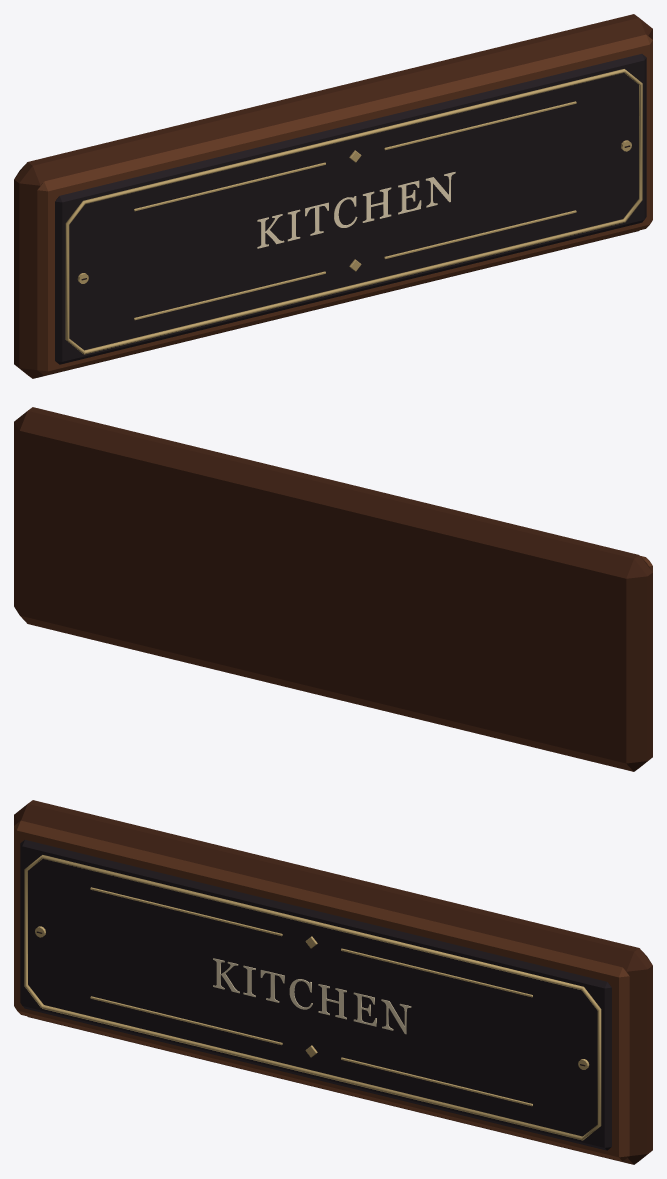
File: KitchenRoomSign.glb
3 renders of one model, top to bottom at view 1: azimuth 30°, elevation 25°; view 2: azimuth 150°, elevation 25°; view 3: azimuth 330°, elevation 25°, orthographic.
Visible parts, largest first — view 1: EnamelFace.002, OakMoulding.002, BevelledOak.002, GoldCartouche.002, Lettering_KITCHEN, GoldHairline.009, GoldHairline.011, GoldHairline.008, GoldHairline.010; view 2: BevelledOak.002; view 3: EnamelFace.002, OakMoulding.002, BevelledOak.002, GoldCartouche.002, Lettering_KITCHEN, GoldHairline.008, GoldHairline.010, GoldHairline.009, GoldHairline.011.
Part boxes in pixels (x1,y1,x2,y2): EnamelFace.002: (55, 54, 646, 364); OakMoulding.002: (37, 34, 652, 375); BevelledOak.002: (14, 14, 652, 378); GoldCartouche.002: (65, 69, 642, 354); Lettering_KITCHEN: (257, 172, 455, 248); GoldHairline.009: (384, 210, 576, 259); GoldHairline.011: (384, 101, 576, 150); GoldHairline.008: (134, 271, 325, 320); GoldHairline.010: (134, 162, 325, 211); BevelledOak.002: (14, 407, 652, 771); EnamelFace.002: (20, 840, 611, 1150); OakMoulding.002: (14, 820, 629, 1161); BevelledOak.002: (14, 800, 652, 1164); GoldCartouche.002: (24, 855, 601, 1140); Lettering_KITCHEN: (213, 958, 411, 1034); GoldHairline.008: (90, 996, 282, 1045); GoldHairline.010: (90, 887, 282, 936); GoldHairline.009: (341, 1057, 532, 1106); GoldHairline.011: (341, 948, 532, 997).
Bounding box in the file's own units: 4.2 × 1.35 × 0.381.
